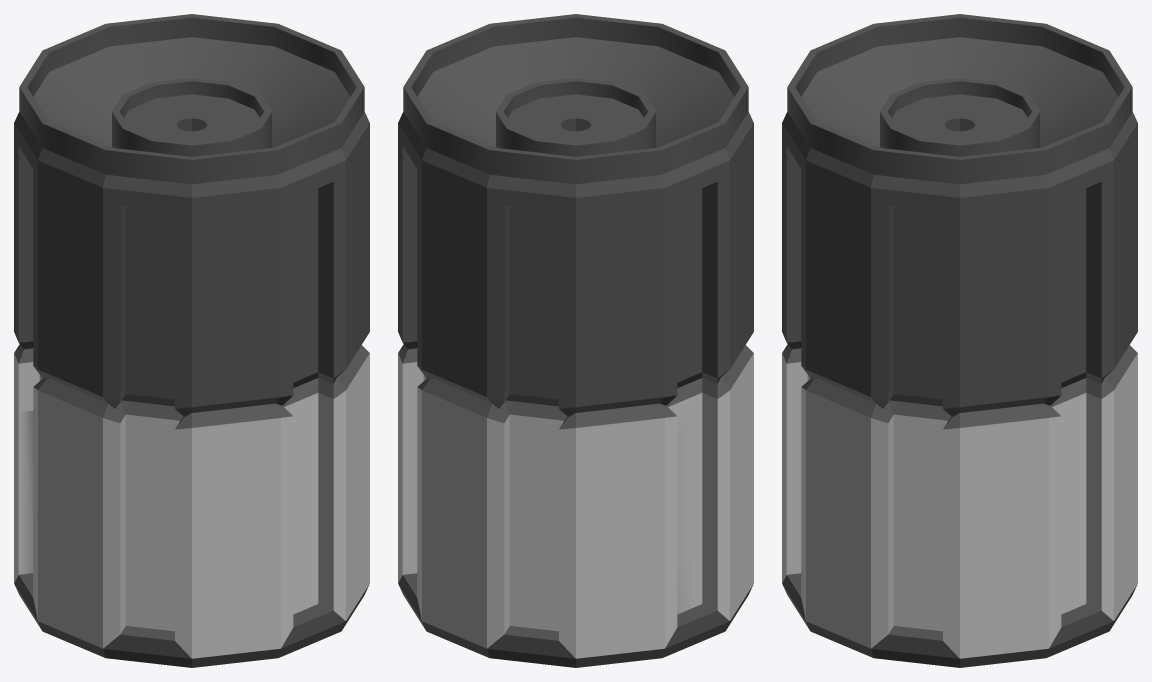
File: energy_tank_01.fbx
3 renders of one model, left to right at view 1: azimuth 30°, elevation 25°; view 2: azimuth 150°, elevation 25°; view 3: azimuth 270°, elevation 25°, orthographic.
Visible parts, largest first — view 1: energy_tank_01; view 2: energy_tank_01; view 3: energy_tank_01.
Boxes of the visible parts, x1,y1,x2,y2 form: energy_tank_01: (14, 14, 369, 667); energy_tank_01: (398, 14, 753, 667); energy_tank_01: (782, 14, 1137, 667).
Bounding box in the file's own units: 78.72 × 125 × 78.72.
